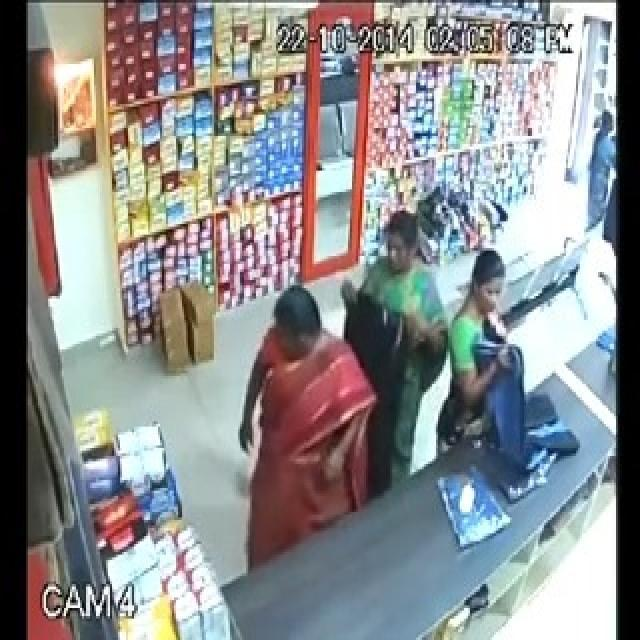Normal: (234, 281, 376, 563), (336, 186, 449, 505), (429, 220, 542, 488)
